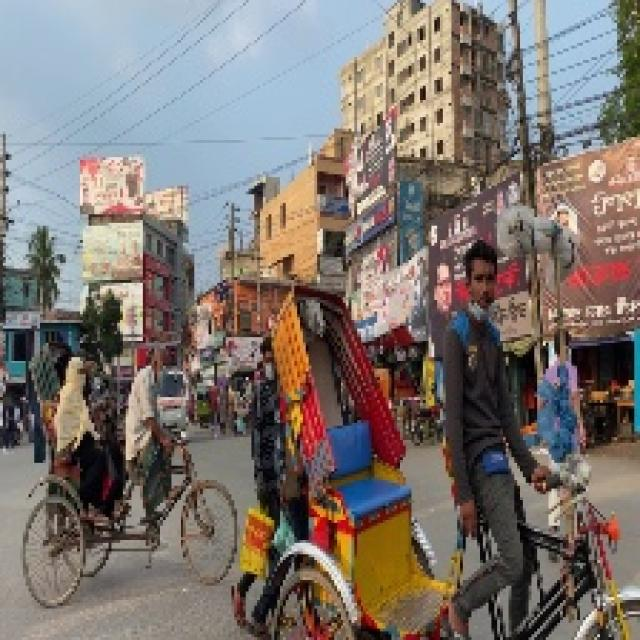rickshaw: (249, 279, 637, 640), (18, 343, 239, 591)
